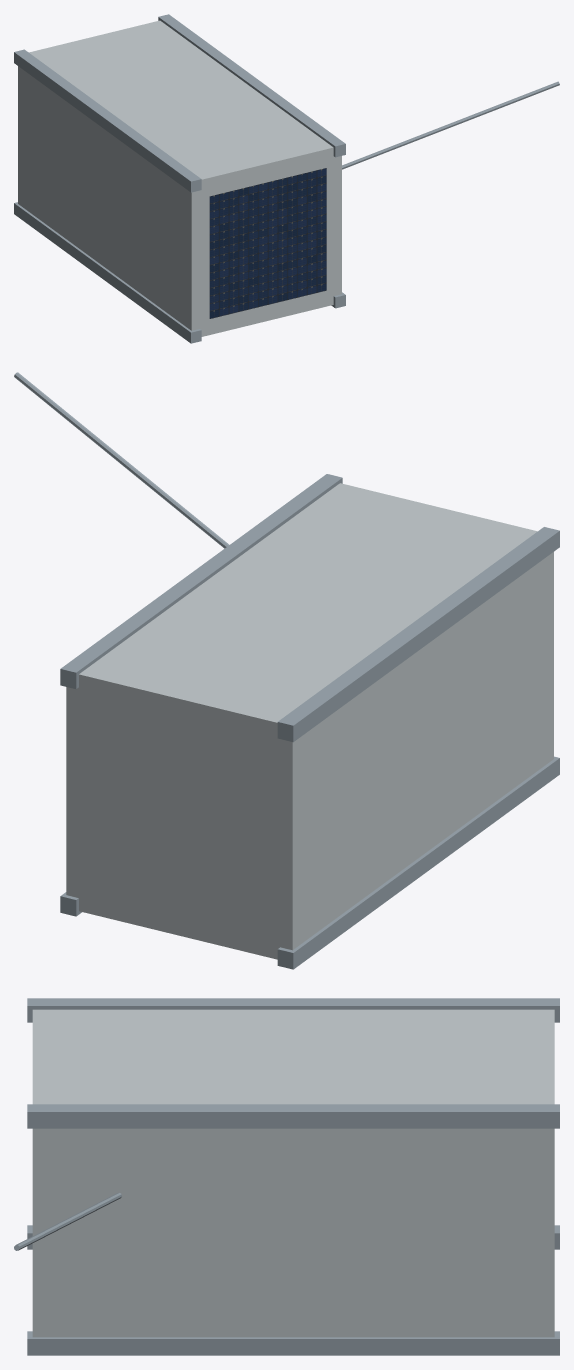
Rendered from ref-cubesat-2u-40034.glb.
The picture shows the model from 3 angles, top to bottom: view 1: azimuth 30°, elevation 25°; view 2: azimuth 150°, elevation 25°; view 3: azimuth 270°, elevation 25°; orthographic projection. The views are drawn at different scales.
Visible parts, largest first — view 1: Spacecraft body, Body-mounted cells, Dispenser rail (×3), Antenna boom; view 2: Spacecraft body, Dispenser rail (×3), Antenna boom; view 3: Spacecraft body, Dispenser rail (×3), Antenna boom.
Boxes of the visible parts, x1=… form: Spacecraft body: x1=18, y1=20, x2=341, y2=336; Body-mounted cells: x1=209, y1=168, x2=326, y2=318; Dispenser rail (×3): x1=14, y1=14, x2=345, y2=343; Antenna boom: x1=342, y1=81, x2=559, y2=169; Spacecraft body: x1=66, y1=483, x2=553, y2=959; Dispenser rail (×3): x1=60, y1=474, x2=559, y2=969; Antenna boom: x1=14, y1=372, x2=229, y2=548; Spacecraft body: x1=32, y1=1009, x2=554, y2=1337; Dispenser rail (×3): x1=27, y1=998, x2=559, y2=1355; Antenna boom: x1=14, y1=1192, x2=122, y2=1250.
Bounding box in the file's own units: 0.243 × 0.1117 × 0.2091.
Materials: 3 (1 with a texture image).
